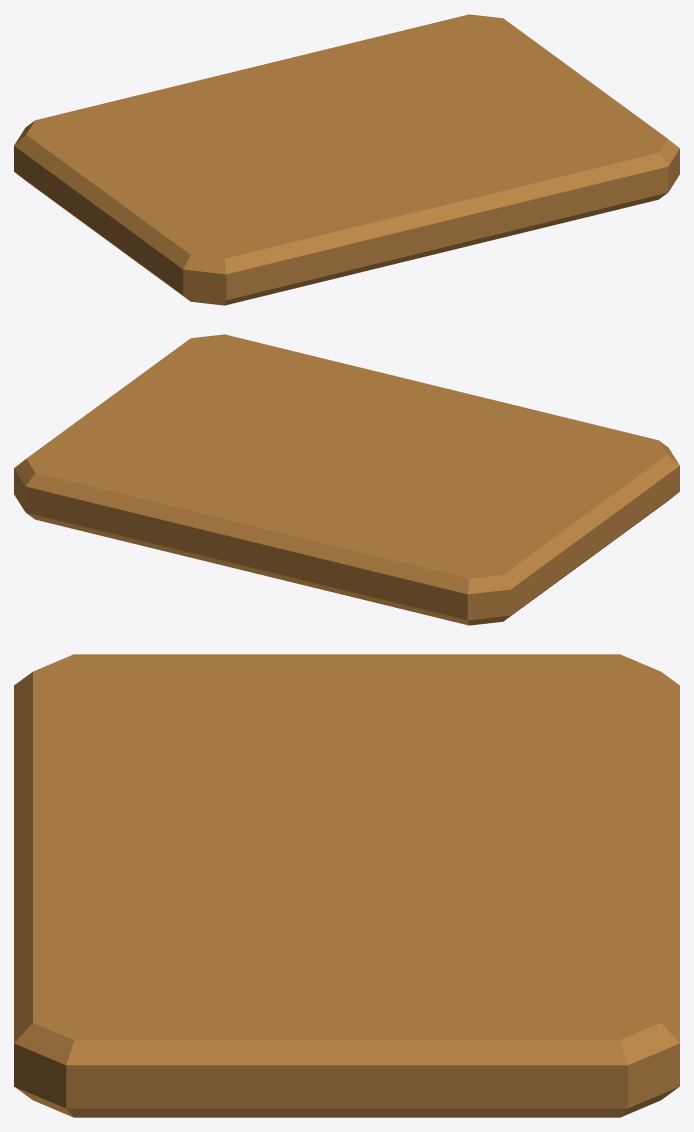
The model's file is SM_Cook_CuttingBoard_01.fbx.
3 views of the same model, one above another, from view 1: azimuth 30°, elevation 25°; view 2: azimuth 150°, elevation 25°; view 3: azimuth 270°, elevation 25° (orthographic). The views are drawn at different scales.
Visible parts, largest first — view 1: SM_Cook_CuttingBoard_01; view 2: SM_Cook_CuttingBoard_01; view 3: SM_Cook_CuttingBoard_01.
Boxes of the visible parts, x1,y1,x2,y2 form: SM_Cook_CuttingBoard_01: [14, 14, 679, 305]; SM_Cook_CuttingBoard_01: [14, 334, 679, 625]; SM_Cook_CuttingBoard_01: [14, 654, 679, 1117].
Size of the model in its own units: 0.4 by 0.036 by 0.28.
Materials: 1 (1 with a texture image).
